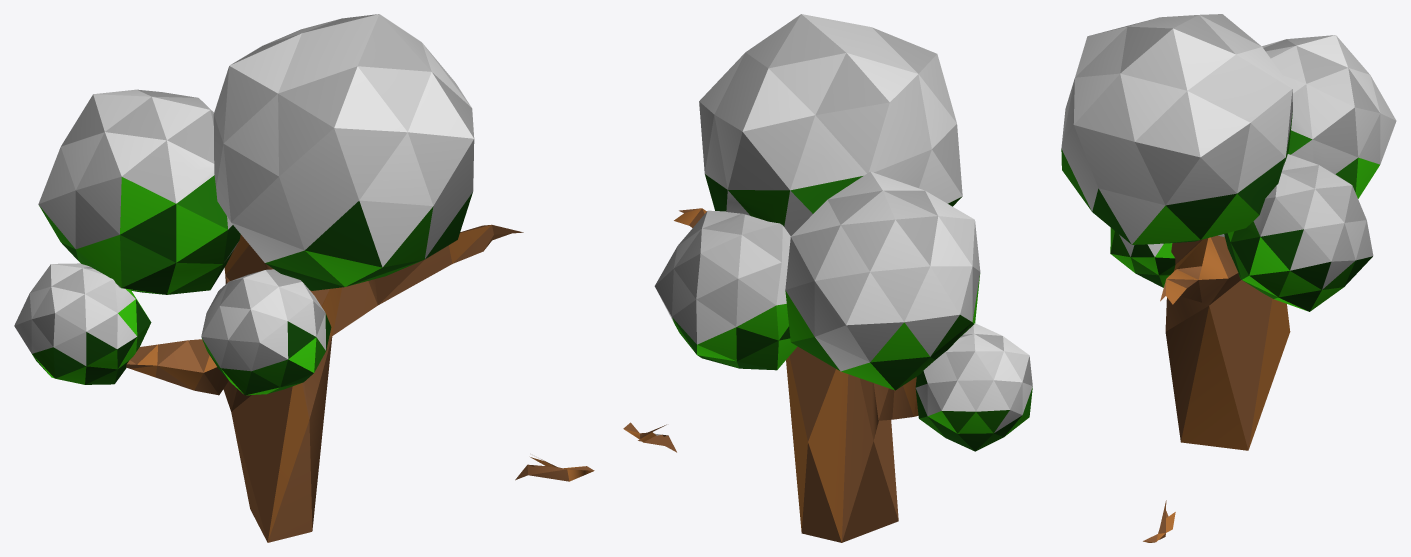
The model's file is broken_treebreak.fbx.
3 views of the same model, side by side, from view 1: azimuth 30°, elevation 25°; view 2: azimuth 150°, elevation 25°; view 3: azimuth 270°, elevation 25° (orthographic). The views are drawn at different scales.
Parts seen in each view (by area): view 1: pPlatonic12, pPlatonic11; view 2: pPlatonic12, pPlatonic11; view 3: pPlatonic12, pPlatonic11.
Boxes of the visible parts, x1,y1,x2,y2 form: pPlatonic12: (14,14,523,542); pPlatonic11: (515,457,594,481); pPlatonic12: (654,14,1032,542); pPlatonic11: (623,422,676,452); pPlatonic12: (1061,14,1396,450); pPlatonic11: (1143,500,1175,542).
Size of the model in its own units: 24.28 by 23.93 by 16.48.
